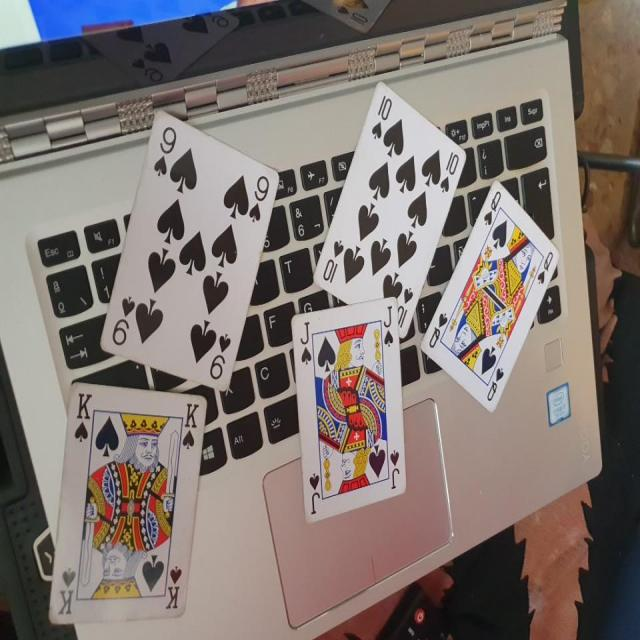10 Spades: (304, 75, 466, 348)
9 Spades: (91, 101, 282, 400)
J Spades: (287, 298, 415, 530)
K Spades: (39, 375, 206, 612)
Q Spades: (417, 185, 560, 422)
